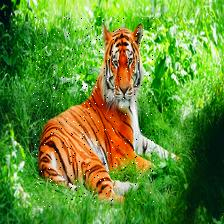tiger: (33, 18, 154, 208)
